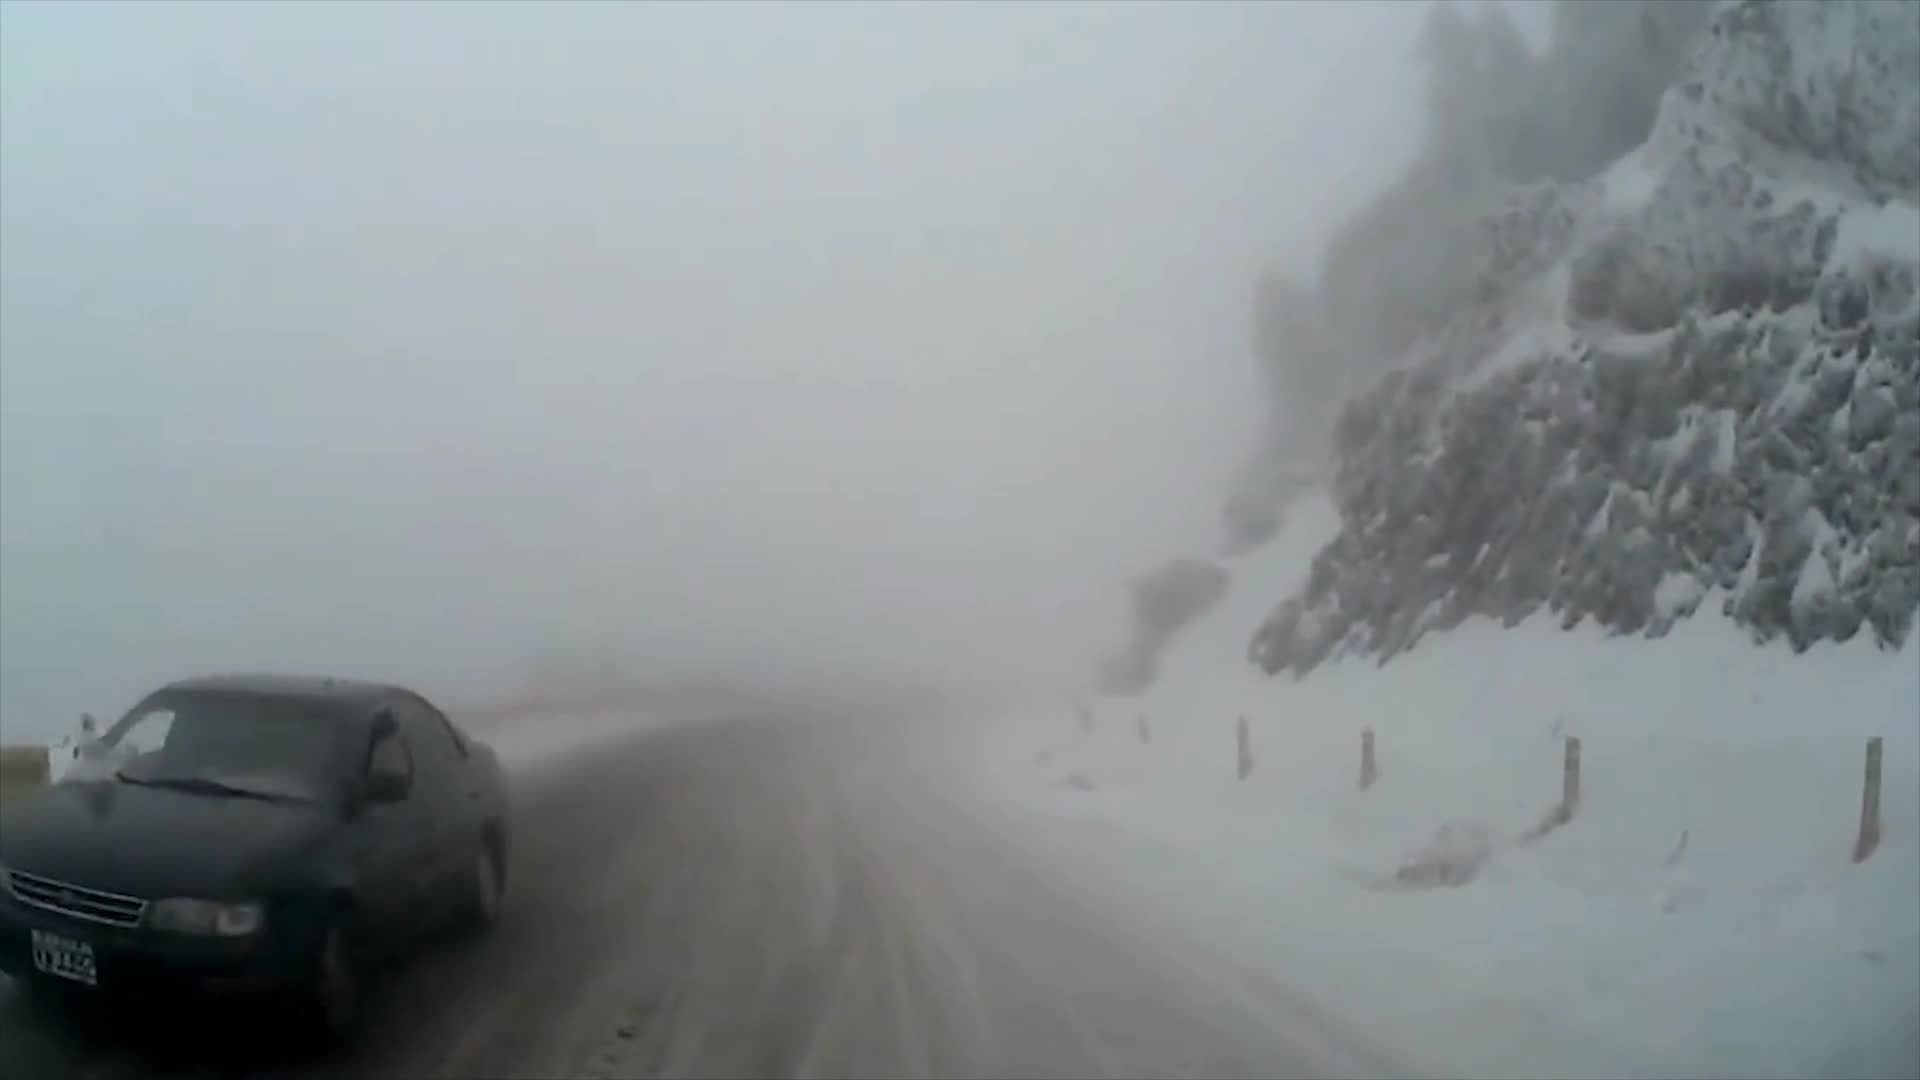vehicle: (0, 669, 512, 1048)
